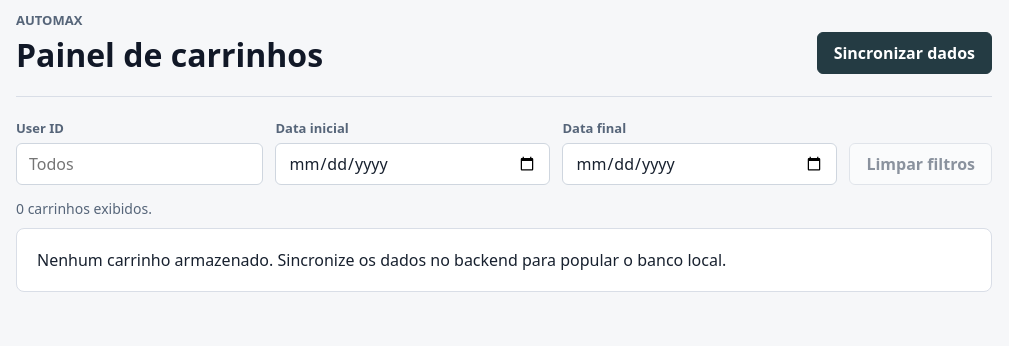
Test case: CartListPage › syncs carts from the page action and reloads the list
The width and height of the screenshot is (1009, 346).
Expected: the text "Nenhum carrinho armazenado" is shown, [37,249,726,271]
Click the button "Sincronizar dados" at (904, 53), box [817,32,992,74]
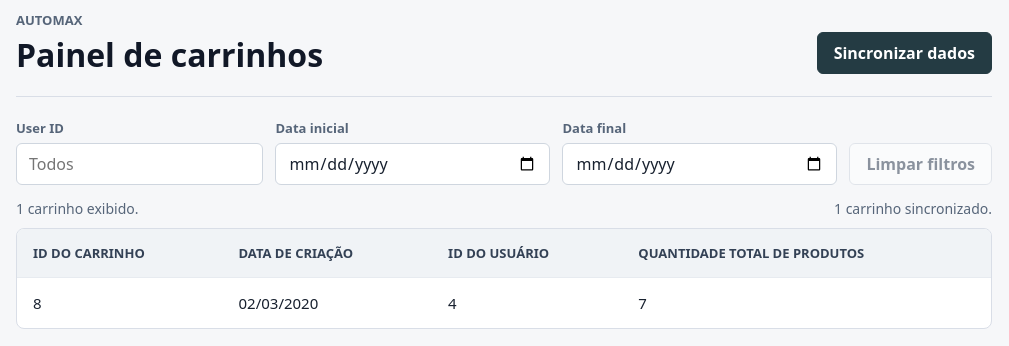
Expected: the text "1 carrinho sincronizado." is shown, [834,199,992,218]
Expected: the text "8" is shown, [17,277,222,328]
